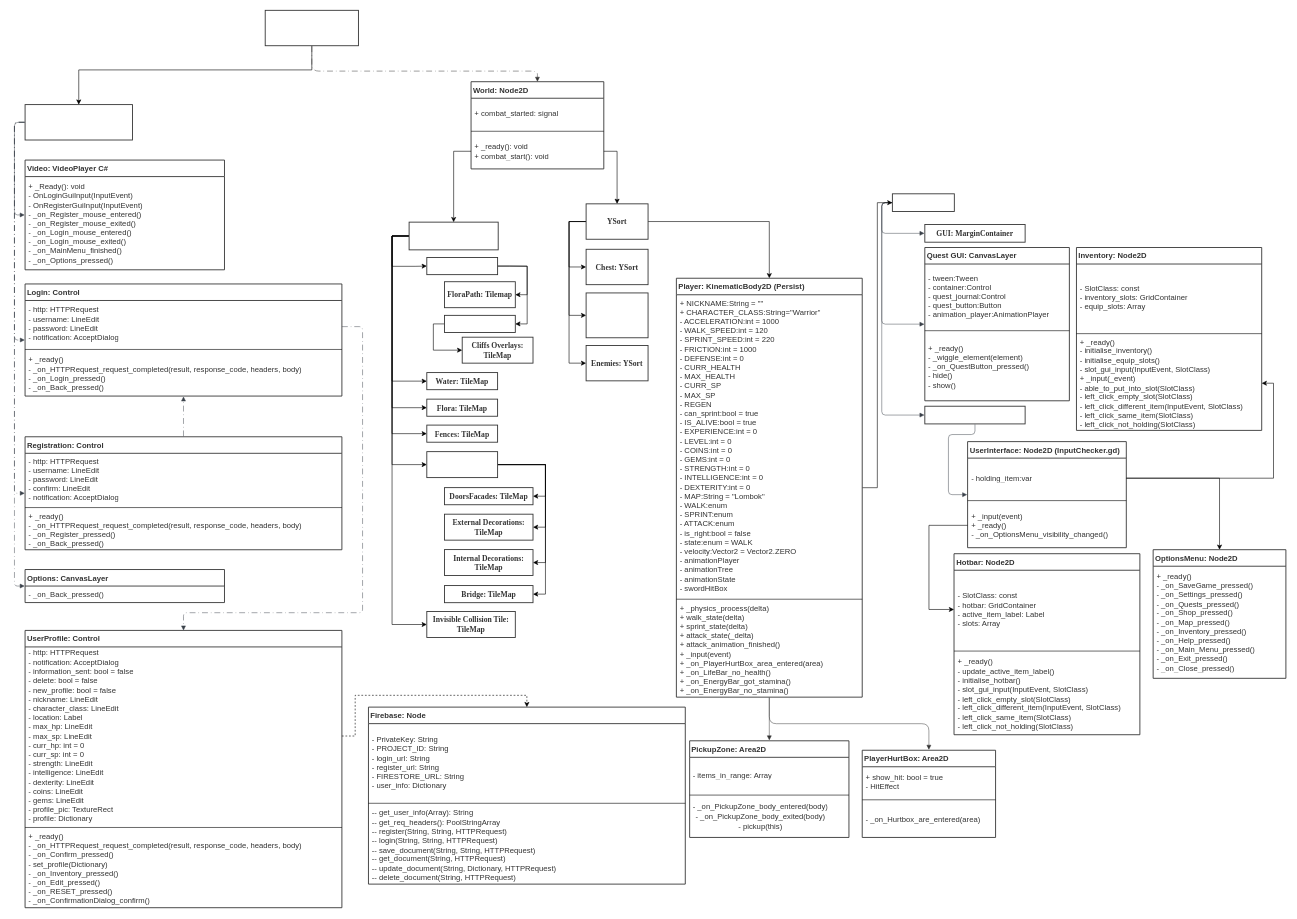
This 1297x919 diagram has some shape labels left out. The centre of each missing label's shape, as x and y in pixels:
"Background: Node2D" belongs at [453,235].
"Buildings: TileMap" belongs at [462,464].
"CanvasLayer" belongs at [974,415].
"Cliffs: TileMap" belongs at [479,324].
"Land: TileMap" belongs at [462,266].
"Main Menu: CanvasLayer" belongs at [78,122].
"Main: Node" belongs at [311,28].
"UI: Control" belongs at [923,202].
"Vegetation: YSort" belongs at [616,315].
